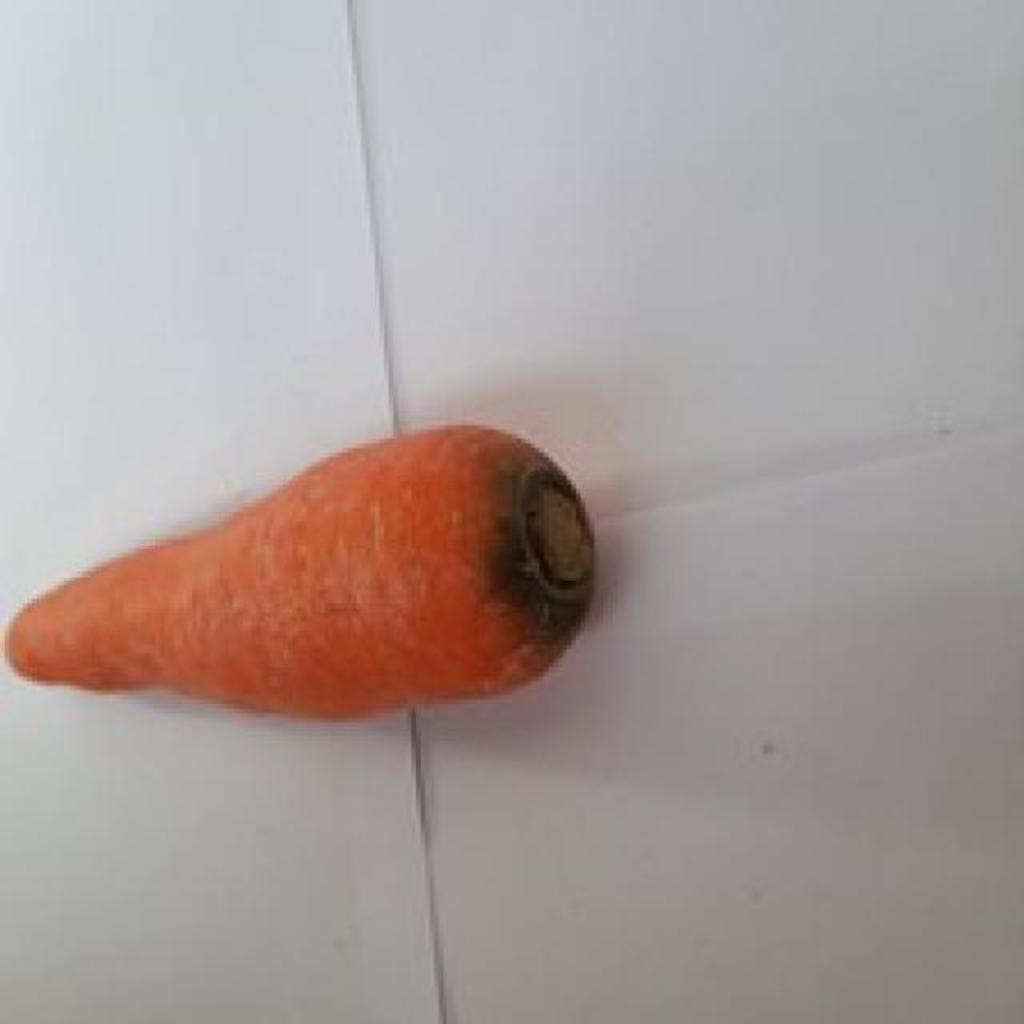carrot: (6, 426, 594, 717)
